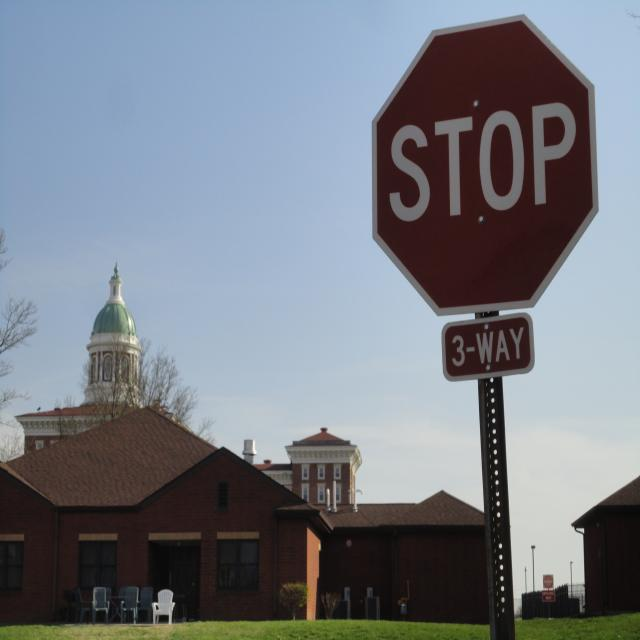Stop-sign: (372, 12, 598, 316)
